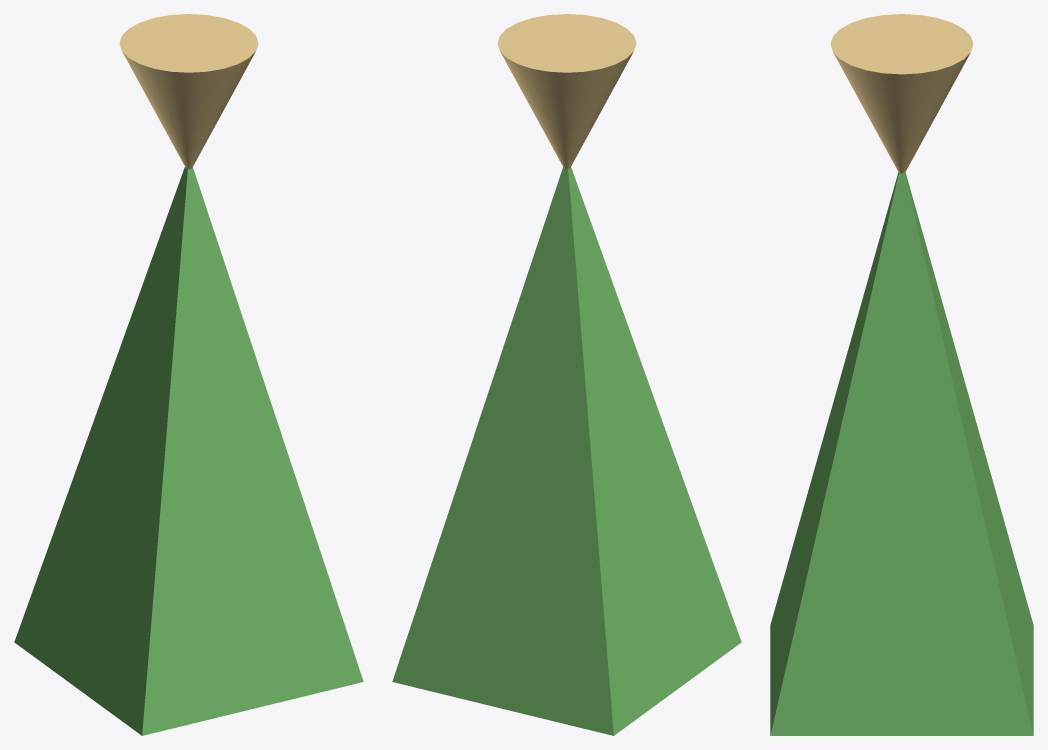
Rendered from coloner.FBX.
3 renders of one model, left to right at view 1: azimuth 30°, elevation 25°; view 2: azimuth 150°, elevation 25°; view 3: azimuth 270°, elevation 25°, orthographic. The views are drawn at different scales.
Parts seen in each view (by area): view 1: Coloner, Head; view 2: Coloner, Head; view 3: Coloner, Head.
Boxes of the visible parts, box(x1,y1,x2,y2) form: Coloner: box(14, 167, 363, 735); Head: box(119, 14, 258, 169); Coloner: box(392, 167, 741, 735); Head: box(497, 14, 636, 169); Coloner: box(770, 172, 1033, 735); Head: box(830, 14, 973, 173).
Bounding box in the file's own units: 10 × 26.69 × 10.
